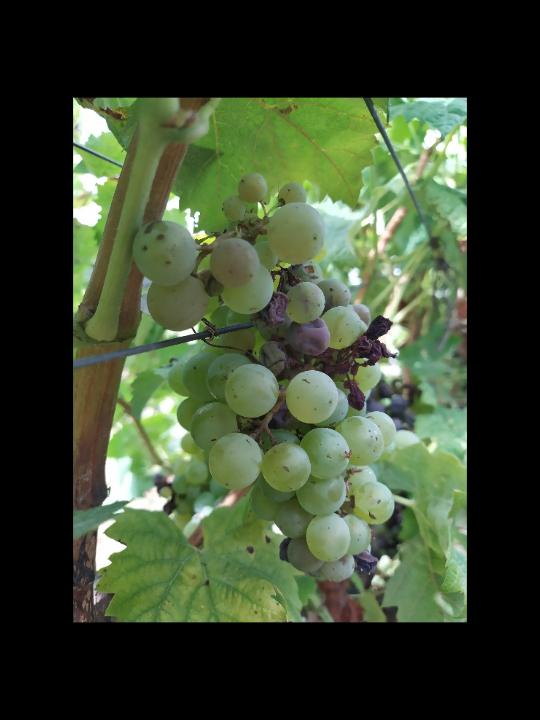grape: (131, 170, 400, 585)
